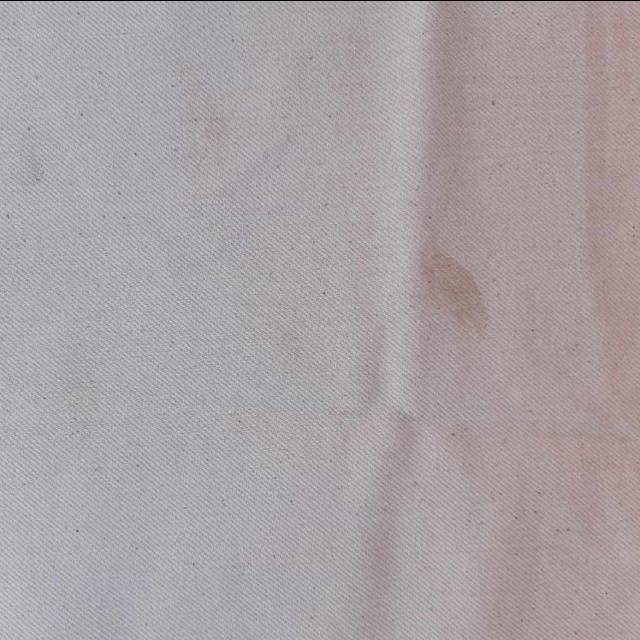taaaches: (392, 240, 510, 344)
